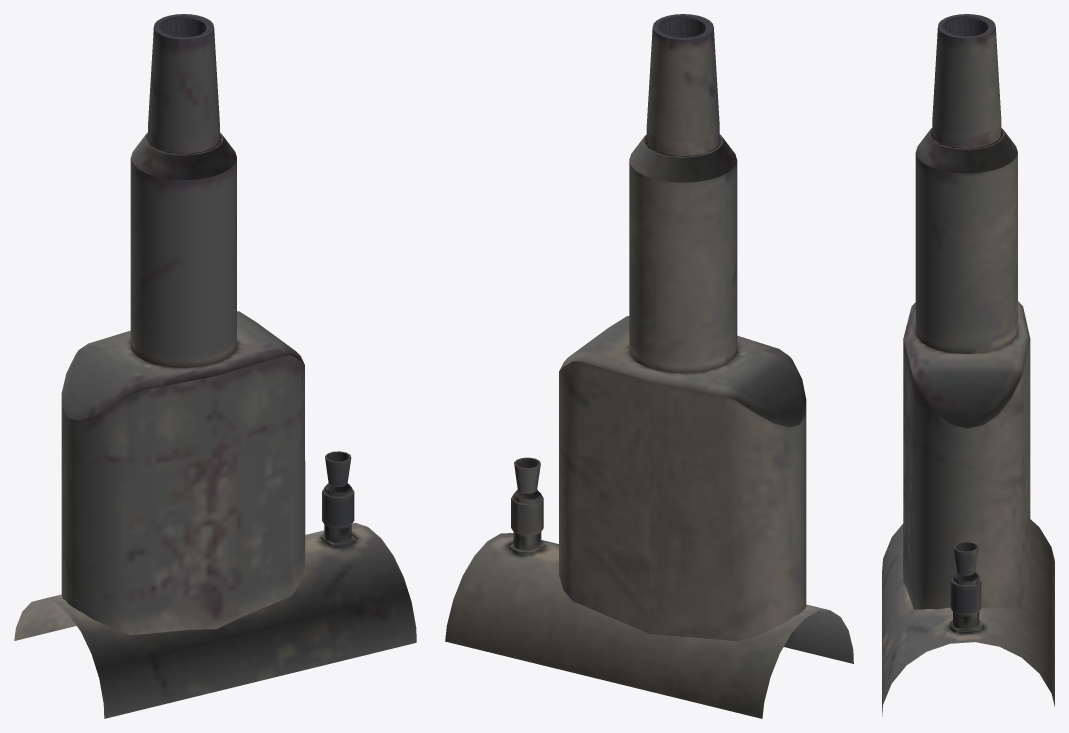
File: Gun_03.glb
3 renders of one model, left to right at view 1: azimuth 30°, elevation 25°; view 2: azimuth 150°, elevation 25°; view 3: azimuth 270°, elevation 25°, orthographic. The views are drawn at different scales.
Visible parts, largest first — view 1: set_0_group_0; view 2: set_0_group_0; view 3: set_0_group_0.
Part boxes in pixels (x1,y1,x2,y2): set_0_group_0: [14, 14, 416, 718]; set_0_group_0: [445, 14, 853, 718]; set_0_group_0: [882, 14, 1054, 716].
Size of the model in its own units: 0.5916 by 1.14 by 0.2954.
Materials: 1 (1 with a texture image).
